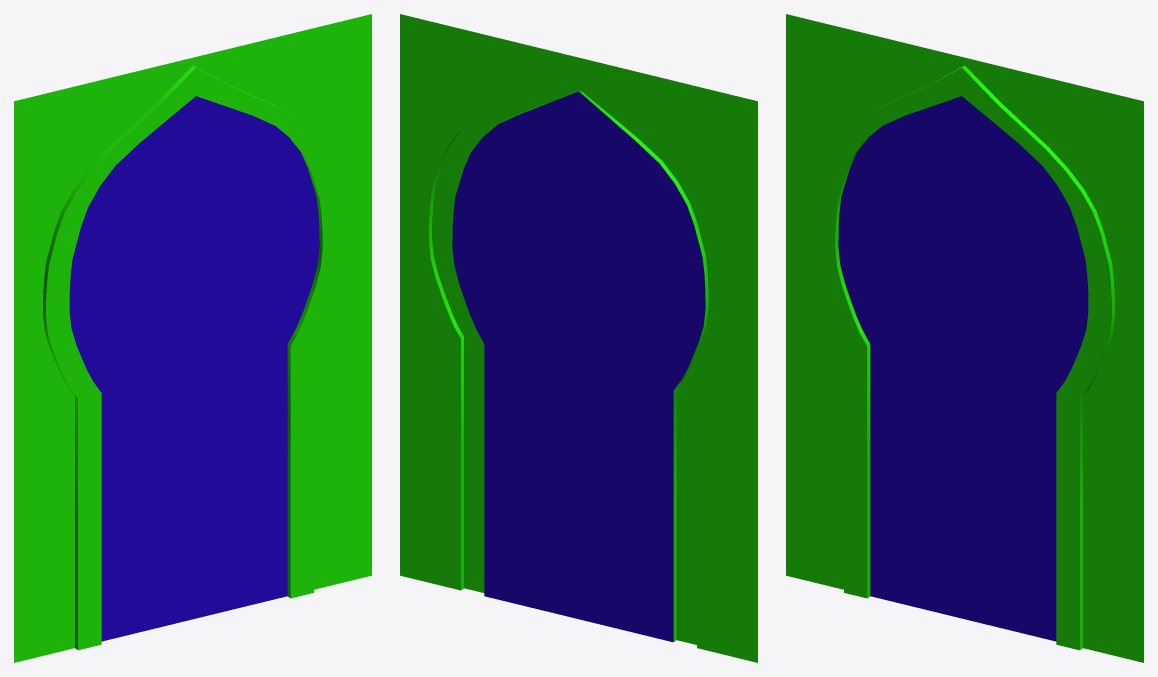
File: window_1.fbx
The picture shows the model from 3 angles, left to right: view 1: azimuth 30°, elevation 25°; view 2: azimuth 150°, elevation 25°; view 3: azimuth 330°, elevation 25°; orthographic projection.
Visible parts, largest first — view 1: Window; view 2: Window; view 3: Window.
Boxes of the visible parts, x1,y1,x2,y2 form: Window: (14, 14, 371, 662); Window: (400, 14, 757, 662); Window: (786, 14, 1143, 662).
Bounding box in the file's own units: 400 × 600 × 6.
